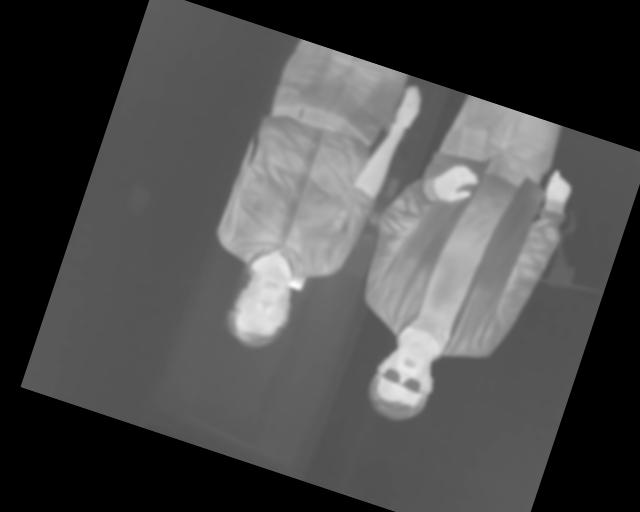face: (361, 330, 447, 431), (221, 258, 304, 357)
